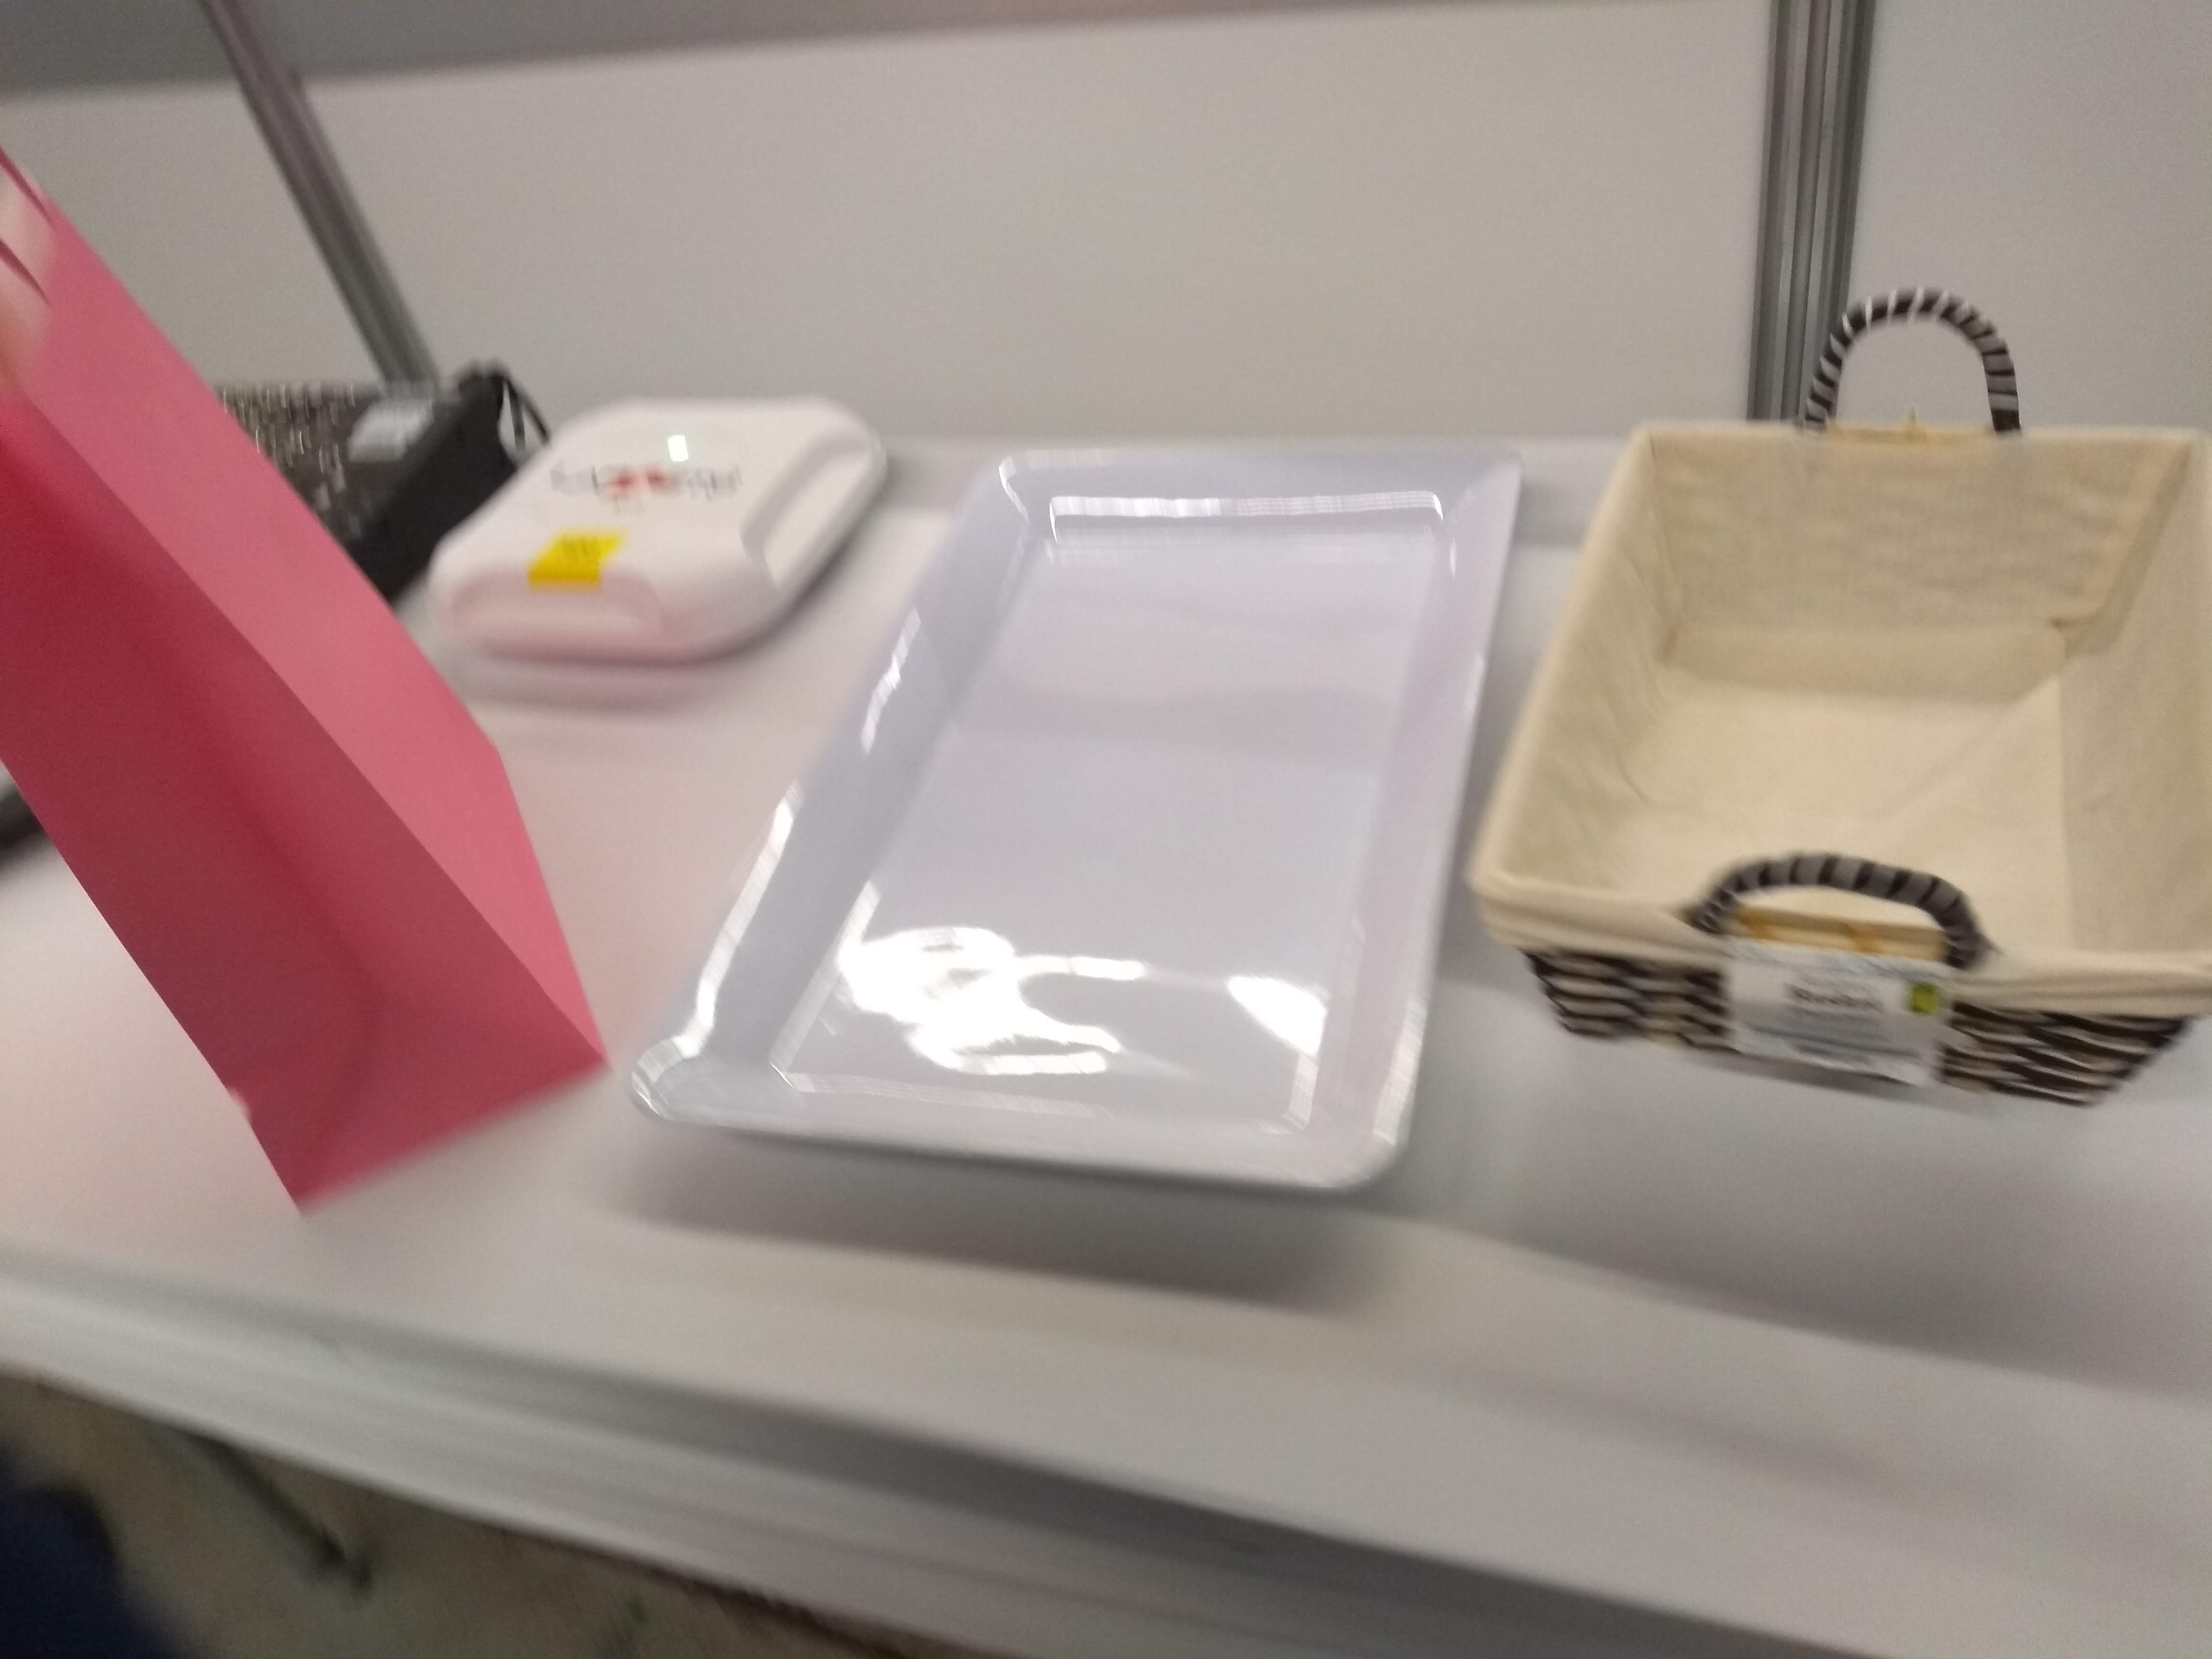basket: (1458, 281, 2212, 1127)
help_me_carry_opl: (0, 145, 613, 1199)
tray: (601, 411, 1541, 1211)
